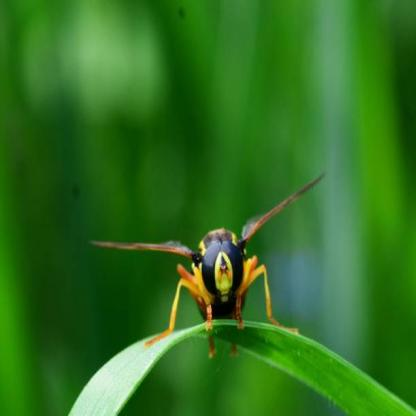sawfly: (88, 174, 328, 365)
